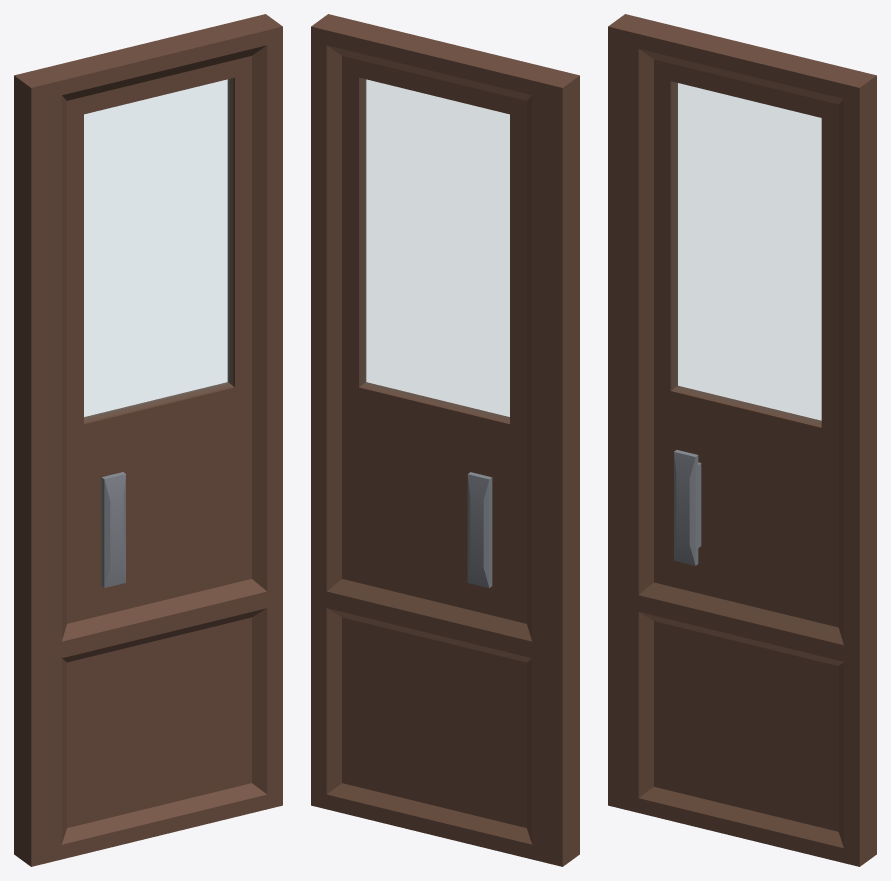
Rendered from SM_Buildings_CityHall_01_Door_R.fbx.
3 renders of one model, left to right at view 1: azimuth 30°, elevation 25°; view 2: azimuth 150°, elevation 25°; view 3: azimuth 330°, elevation 25°, orthographic.
Visible parts, largest first — view 1: SM_Buildings_CityHall_01_Door_R; view 2: SM_Buildings_CityHall_01_Door_R; view 3: SM_Buildings_CityHall_01_Door_R.
Boxes of the visible parts, <box> form: SM_Buildings_CityHall_01_Door_R: <box>14,14,282,866</box>; SM_Buildings_CityHall_01_Door_R: <box>311,14,579,866</box>; SM_Buildings_CityHall_01_Door_R: <box>608,14,876,866</box>.
Bounding box in the file's own units: 0.9297 × 2.75 × 0.1791.
